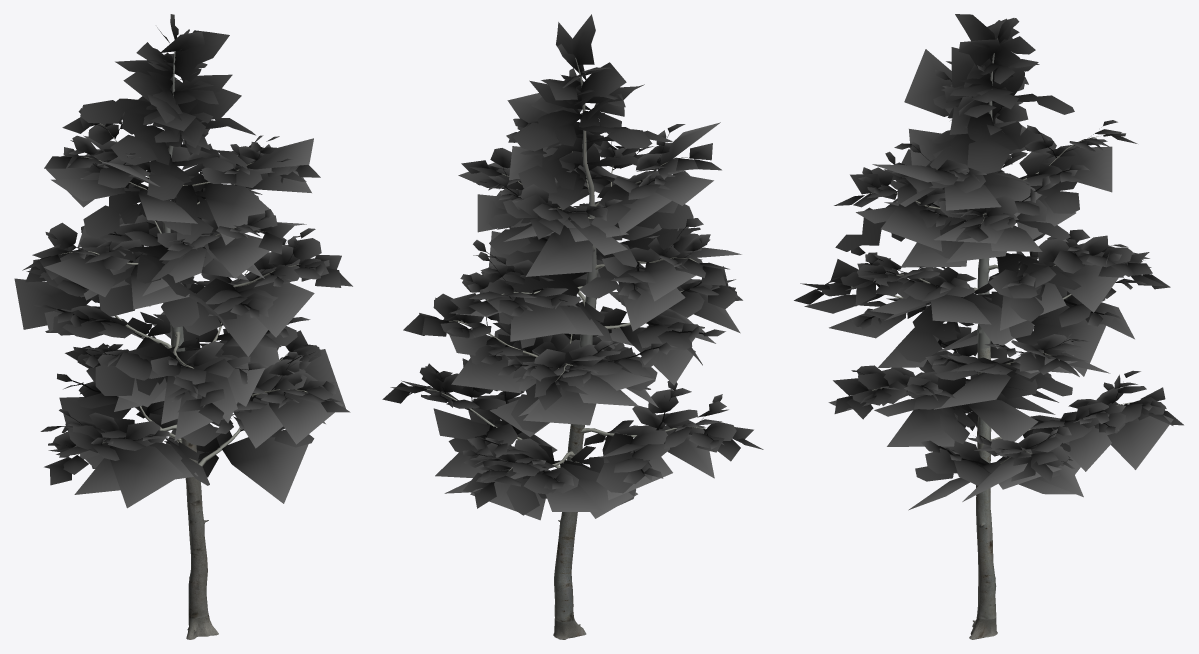
The model's file is beech_tree_02_s.FBX.
3 views of the same model, side by side, from view 1: azimuth 30°, elevation 25°; view 2: azimuth 150°, elevation 25°; view 3: azimuth 270°, elevation 25° (orthographic).
Visible parts, largest first — view 1: beech_tree_02_leaves_LOD0, beech_tree_02_LOD0; view 2: beech_tree_02_leaves_LOD0, beech_tree_02_LOD0; view 3: beech_tree_02_leaves_LOD0, beech_tree_02_LOD0.
Boxes of the visible parts, bbox=[...] form: beech_tree_02_leaves_LOD0: bbox=[14, 14, 352, 508]; beech_tree_02_LOD0: bbox=[61, 51, 307, 639]; beech_tree_02_leaves_LOD0: bbox=[382, 14, 763, 520]; beech_tree_02_LOD0: bbox=[427, 58, 705, 639]; beech_tree_02_leaves_LOD0: bbox=[794, 14, 1183, 510]; beech_tree_02_LOD0: bbox=[851, 38, 1132, 639].
Size of what is drawn, in the model's own units: 7340 by 13329 by 7674.
